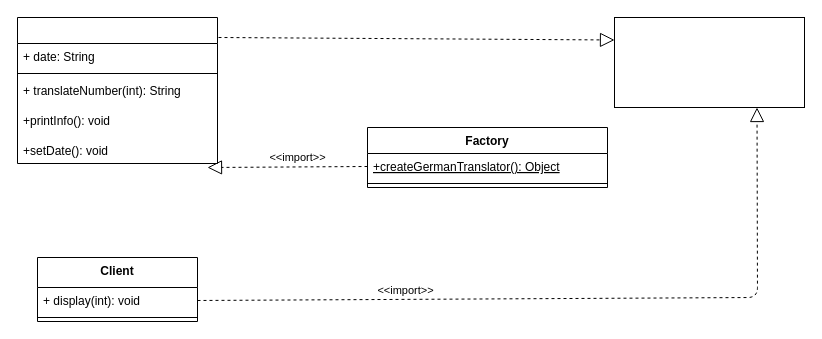
The diagram is 822 pixels wide and 339 high, and some of its shapes have lost their labels. The box of each missing label's shape, as (x1, y1, x2, y2) in pixels:
<<Interface>> Translator + version: double + translateNumber(int): String: (614, 16, 804, 108)
GermanTranslator: (16, 16, 218, 164)
